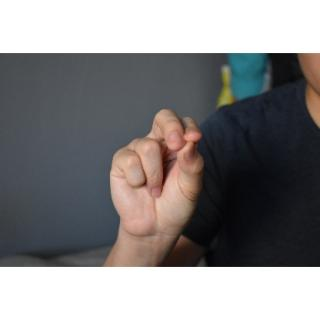QAAF: (108, 104, 214, 245)
